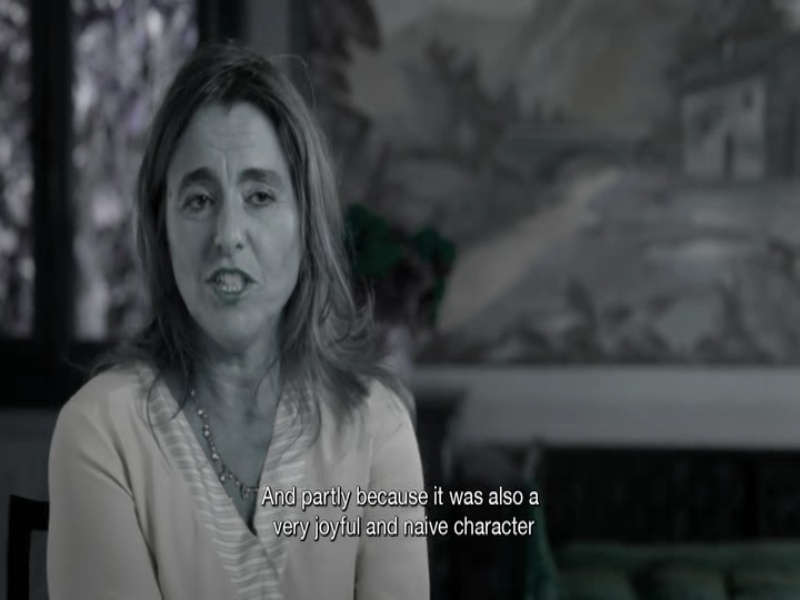TsisyArotava: (146, 80, 321, 362)
